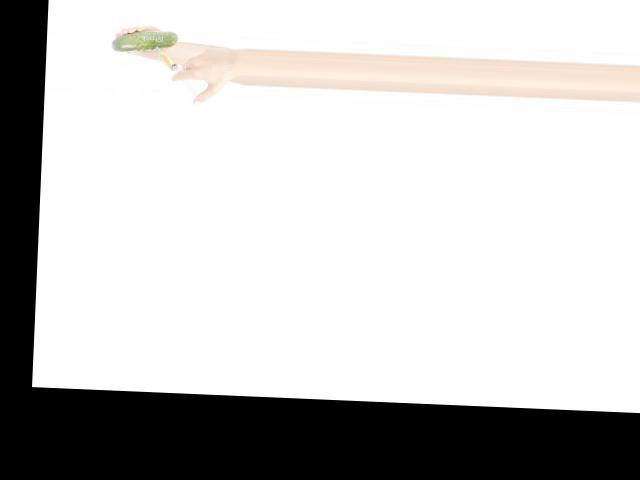cucumber: (110, 29, 177, 53)
